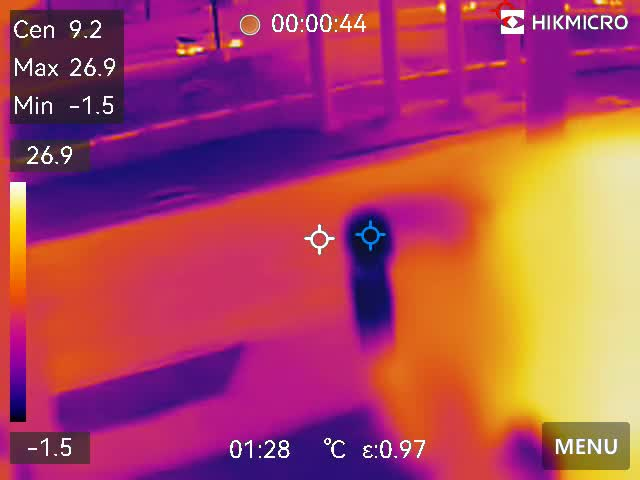vehicle: (166, 28, 239, 57)
